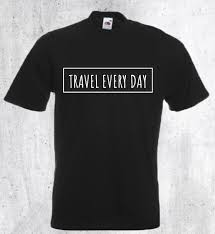T-Shirt: (2, 8, 211, 234)
